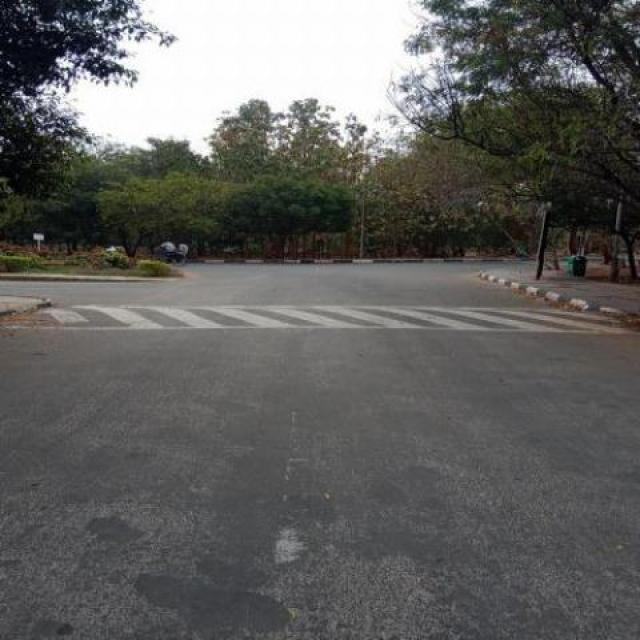Speed Bump: (40, 308, 636, 336)
